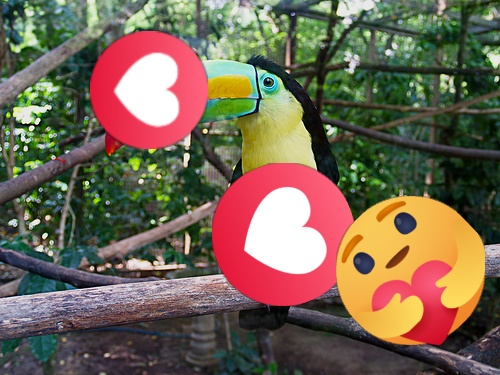care: (336, 196, 485, 345)
love: (212, 163, 355, 306), (90, 31, 208, 149)
